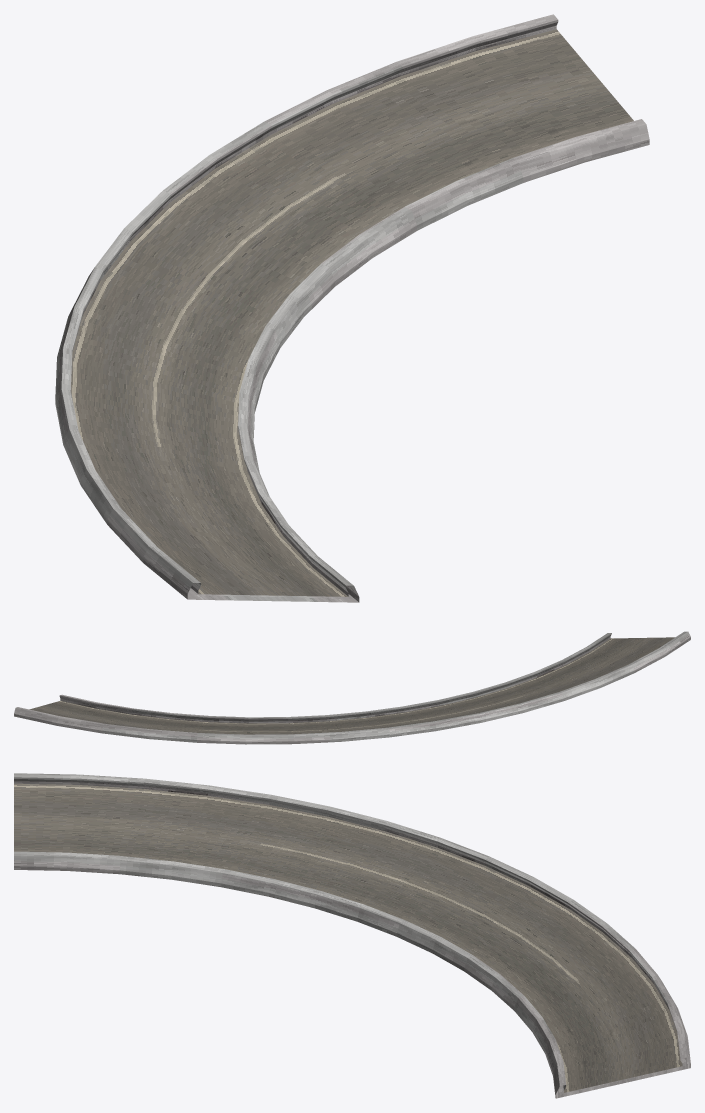
Rendered from turn-right5x5.glb.
3 views of the same model, one above another, from view 1: azimuth 30°, elevation 25°; view 2: azimuth 150°, elevation 25°; view 3: azimuth 270°, elevation 25° (orthographic). The views are drawn at different scales.
Parts seen in each view (by area): view 1: road-Turn-HalfBankedRight-HalfBankedRight-Even-Right-Size5; view 2: road-Turn-HalfBankedRight-HalfBankedRight-Even-Right-Size5; view 3: road-Turn-HalfBankedRight-HalfBankedRight-Even-Right-Size5.
Part boxes in pixels (left/top/right/bottom): road-Turn-HalfBankedRight-HalfBankedRight-Even-Right-Size5: left=55, top=14, right=649, bottom=602; road-Turn-HalfBankedRight-HalfBankedRight-Even-Right-Size5: left=14, top=631, right=690, bottom=744; road-Turn-HalfBankedRight-HalfBankedRight-Even-Right-Size5: left=14, top=773, right=690, bottom=1098.
Size of the model in its own units: 5 by 0.3359 by 5.
Materials: 2 (2 with a texture image).
